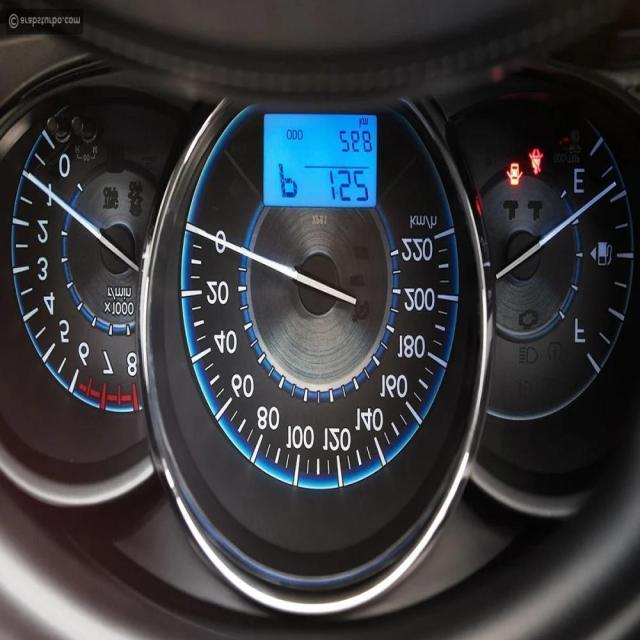Seat Belt: (528, 146, 544, 176)
